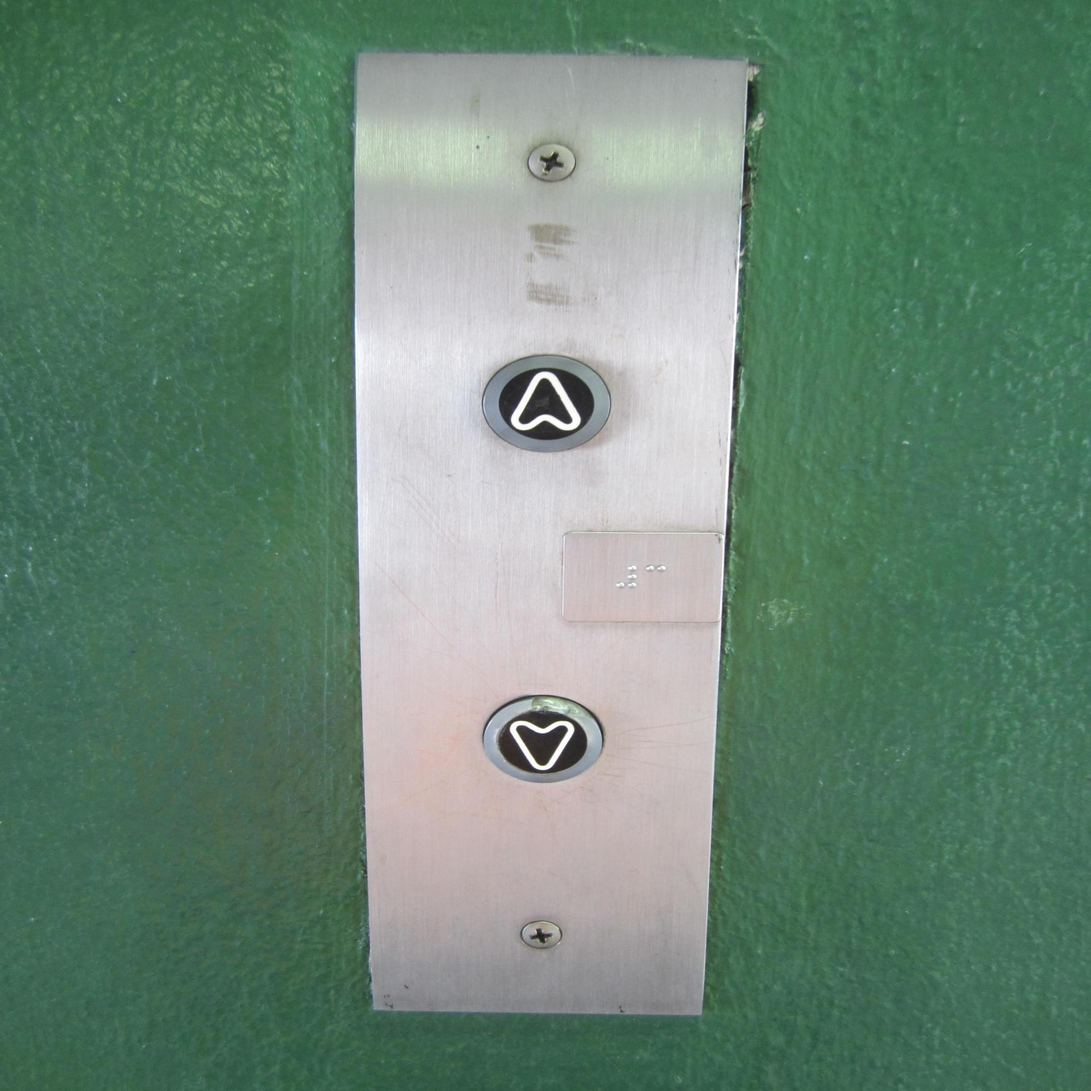down: (474, 687, 607, 789)
up: (476, 348, 615, 461)
